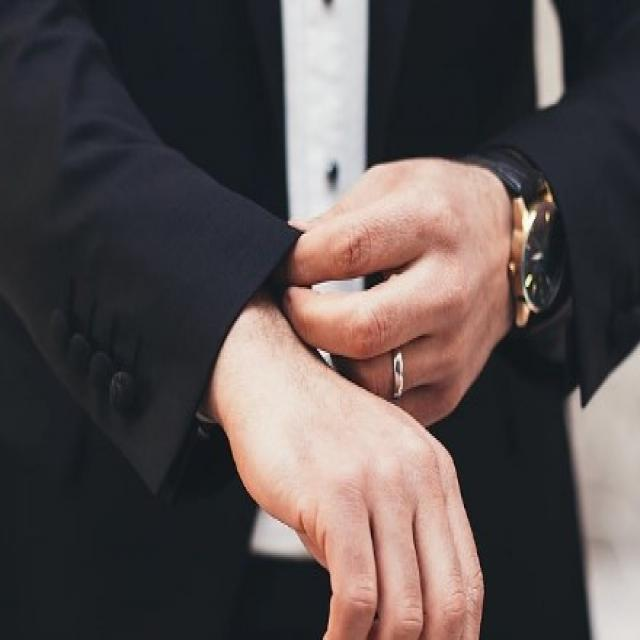Watch: (473, 140, 578, 337)
